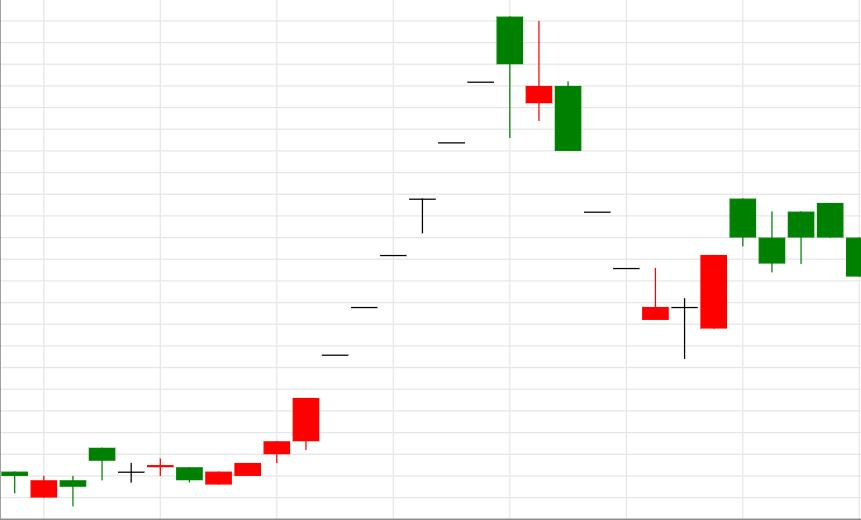hanging_man_fall: (205, 17, 523, 485)
